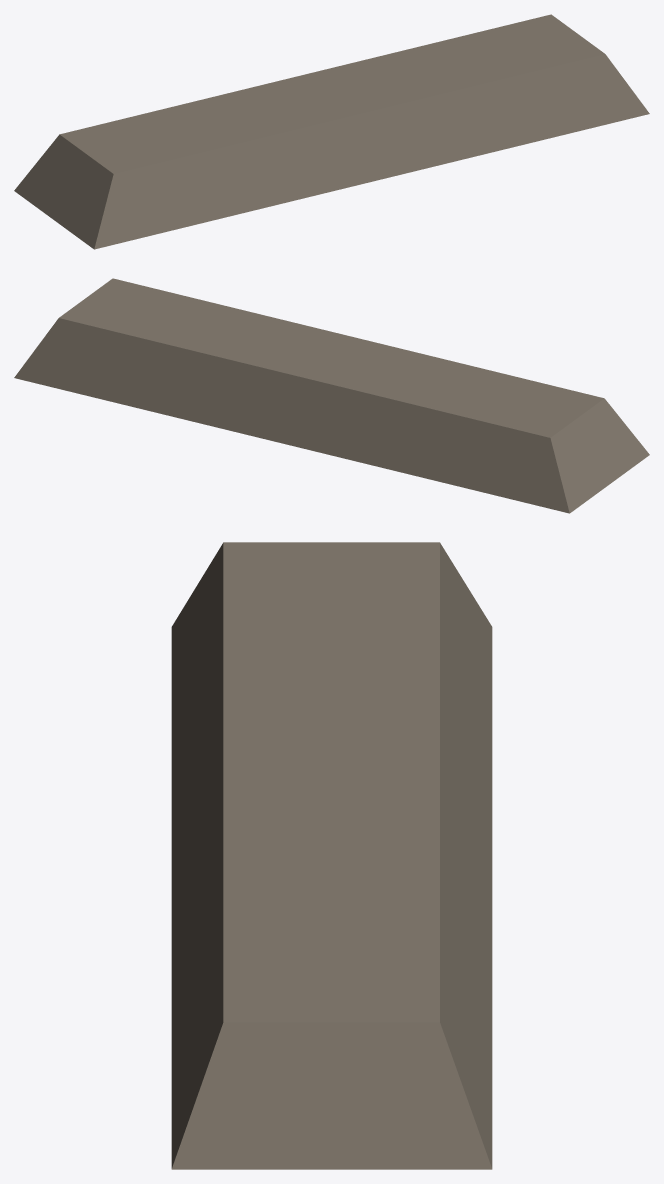
The model's file is interior_school_lights_00.fbx.
3 views of the same model, one above another, from view 1: azimuth 30°, elevation 25°; view 2: azimuth 150°, elevation 25°; view 3: azimuth 270°, elevation 25° (orthographic). The views are drawn at different scales.
Visible parts, largest first — view 1: School Light; view 2: School Light; view 3: School Light.
Part boxes in pixels (<box>): School Light: <box>14,14,649,249</box>; School Light: <box>14,278,649,513</box>; School Light: <box>171,542,492,1169</box>.
Bounding box in the file's own units: 200 × 20.38 × 50.
